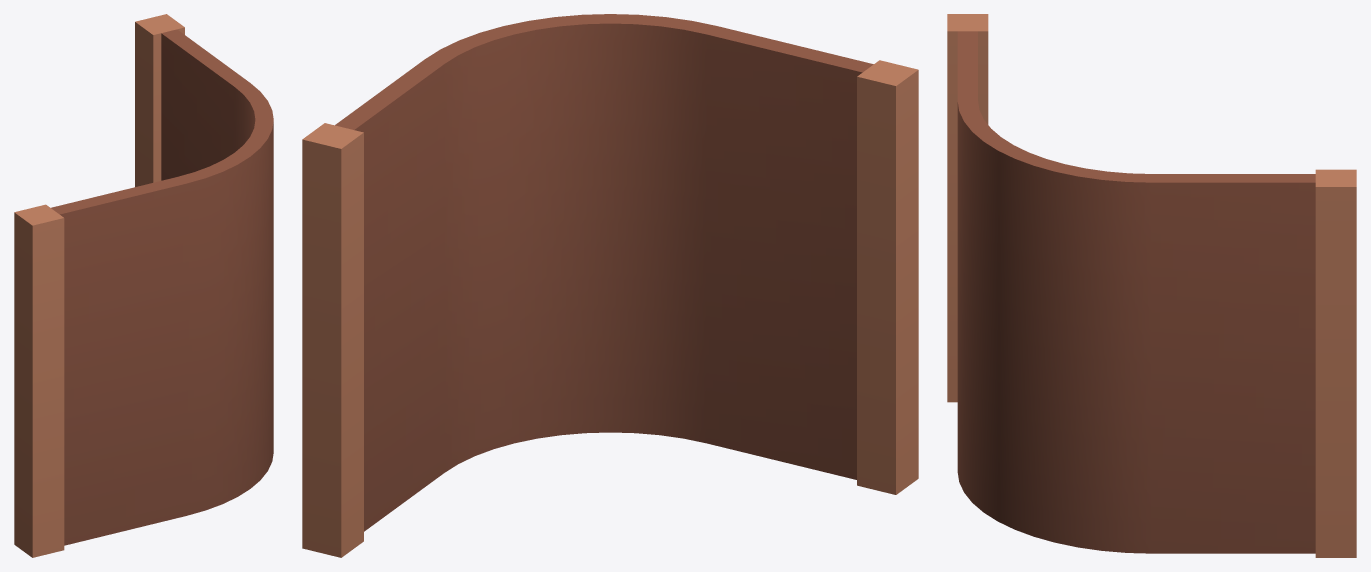
Rendered from wall_wood_rounded.glb.
The picture shows the model from 3 angles, left to right: view 1: azimuth 30°, elevation 25°; view 2: azimuth 150°, elevation 25°; view 3: azimuth 270°, elevation 25°; orthographic projection. The views are drawn at different scales.
Visible parts, largest first — view 1: wall-wood-rounded; view 2: wall-wood-rounded; view 3: wall-wood-rounded.
Part boxes in pixels (<box>): wall-wood-rounded: <box>14,14,273,557</box>; wall-wood-rounded: <box>302,14,918,557</box>; wall-wood-rounded: <box>947,14,1356,557</box>.
Bounding box in the file's own units: 1 × 1 × 1.
1 material, 1 textured.
